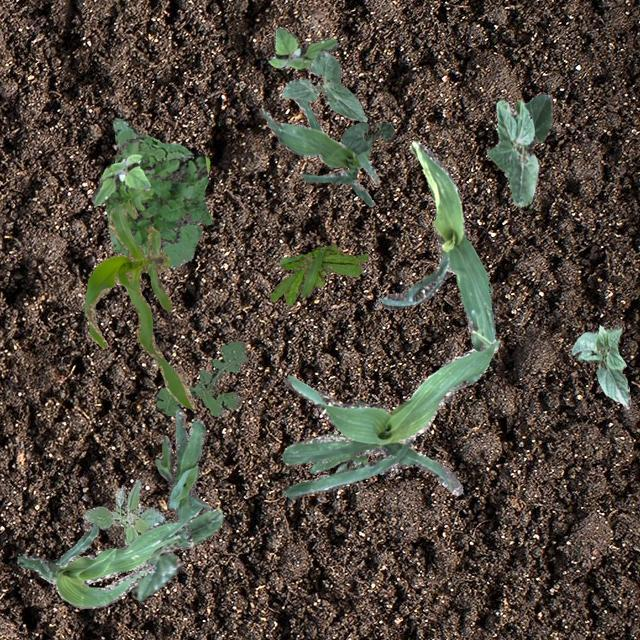crop: (281, 338, 498, 498), (378, 140, 494, 350), (84, 202, 194, 408), (17, 503, 200, 608), (258, 98, 378, 206), (130, 506, 222, 600), (153, 408, 210, 548), (486, 94, 552, 206), (280, 47, 366, 121), (570, 324, 630, 408), (340, 122, 392, 154)
weed: (111, 118, 200, 268), (104, 136, 212, 255), (154, 340, 248, 416), (268, 244, 368, 304), (82, 478, 165, 544), (308, 400, 368, 472), (90, 153, 148, 204), (268, 26, 336, 68)
